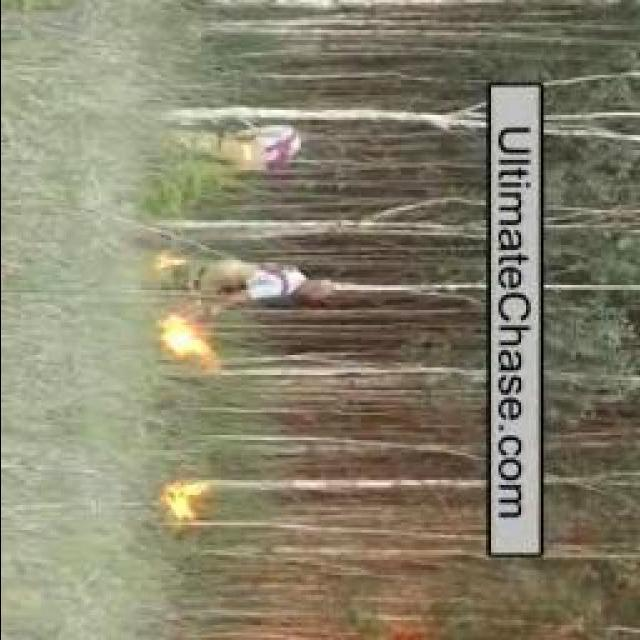Fire: (153, 316, 215, 363), (160, 480, 206, 520), (152, 254, 184, 274)
